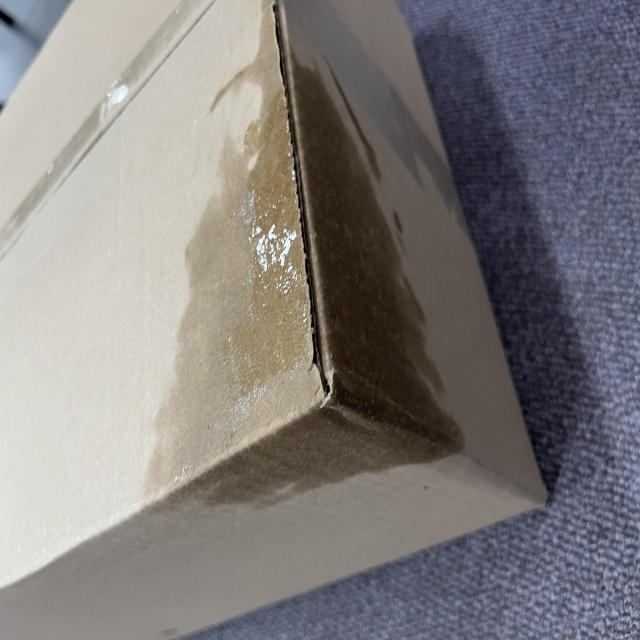wet: (87, 195, 454, 603)
